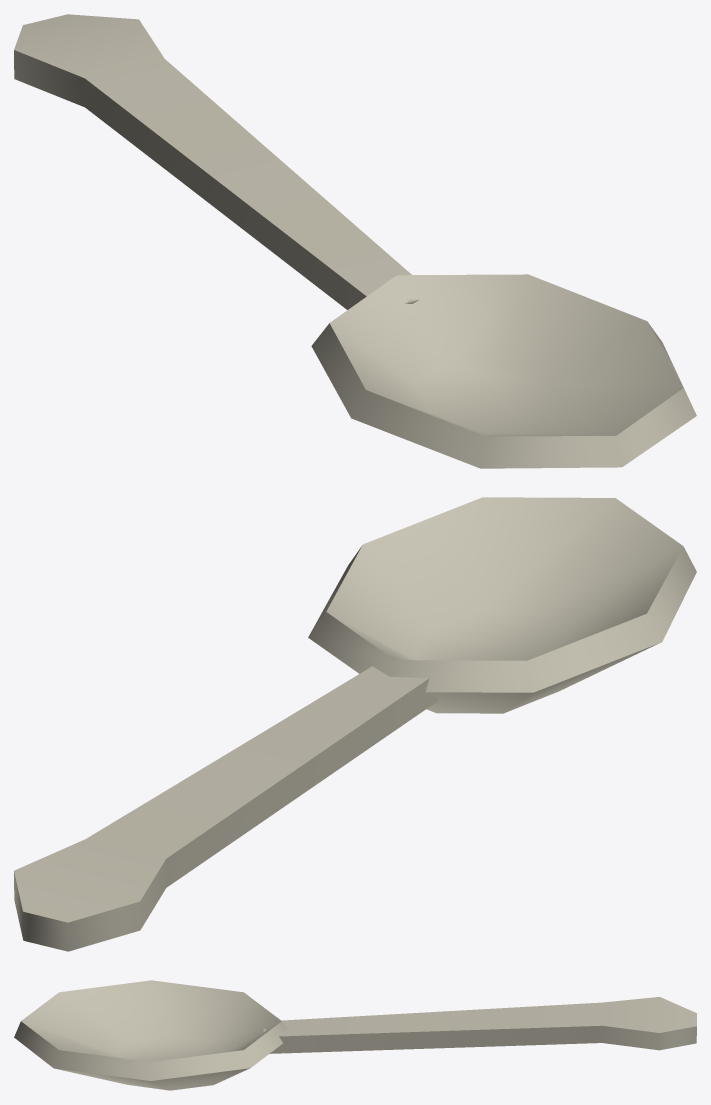
File: Spoon_01.fbx
3 views of the same model, one above another, from view 1: azimuth 30°, elevation 25°; view 2: azimuth 150°, elevation 25°; view 3: azimuth 270°, elevation 25° (orthographic). The views are drawn at different scales.
Parts seen in each view (by area): view 1: Spoon_01; view 2: Spoon_01; view 3: Spoon_01.
Boxes of the visible parts, x1=… form: Spoon_01: x1=14, y1=14, x2=696, y2=468; Spoon_01: x1=14, y1=497, x2=696, y2=951; Spoon_01: x1=14, y1=980, x2=696, y2=1090.
Bounding box in the file's own units: 0.0617 × 0.0177 × 0.197.
